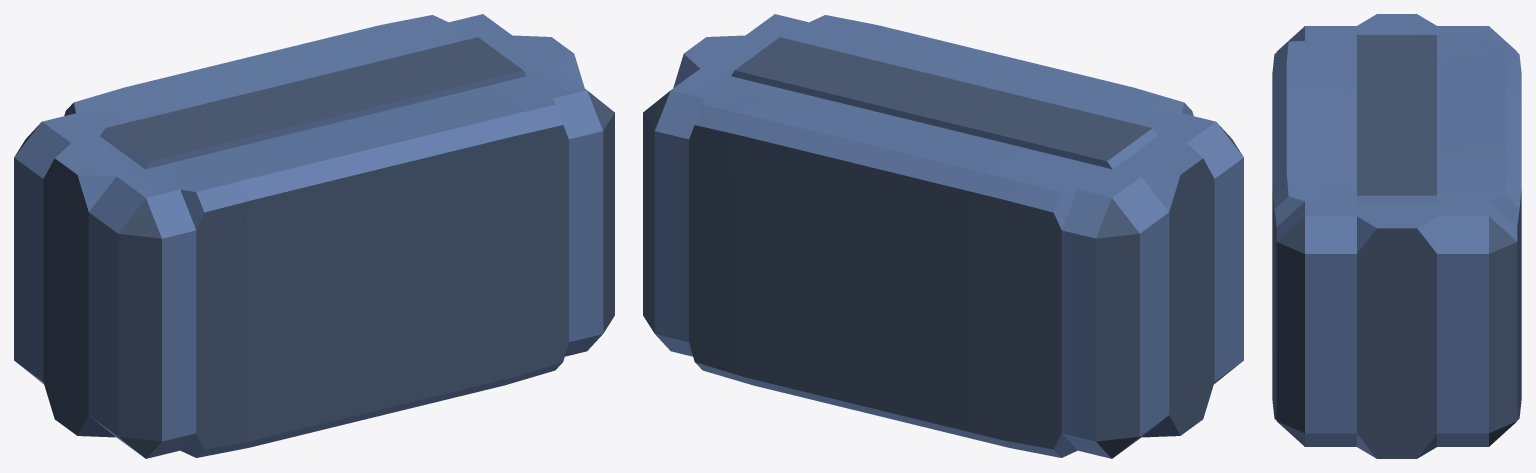
The model's file is Crate.fbx.
3 renders of one model, left to right at view 1: azimuth 30°, elevation 25°; view 2: azimuth 150°, elevation 25°; view 3: azimuth 270°, elevation 25°, orthographic. The views are drawn at different scales.
Visible parts, largest first — view 1: pCube1; view 2: pCube1; view 3: pCube1.
Part boxes in pixels (x1,y1,x2,y2): pCube1: (14,14,614,458); pCube1: (643,14,1243,458); pCube1: (1272,14,1521,458).
Size of the model in its own units: 7.25 by 3.79 by 3.57.
